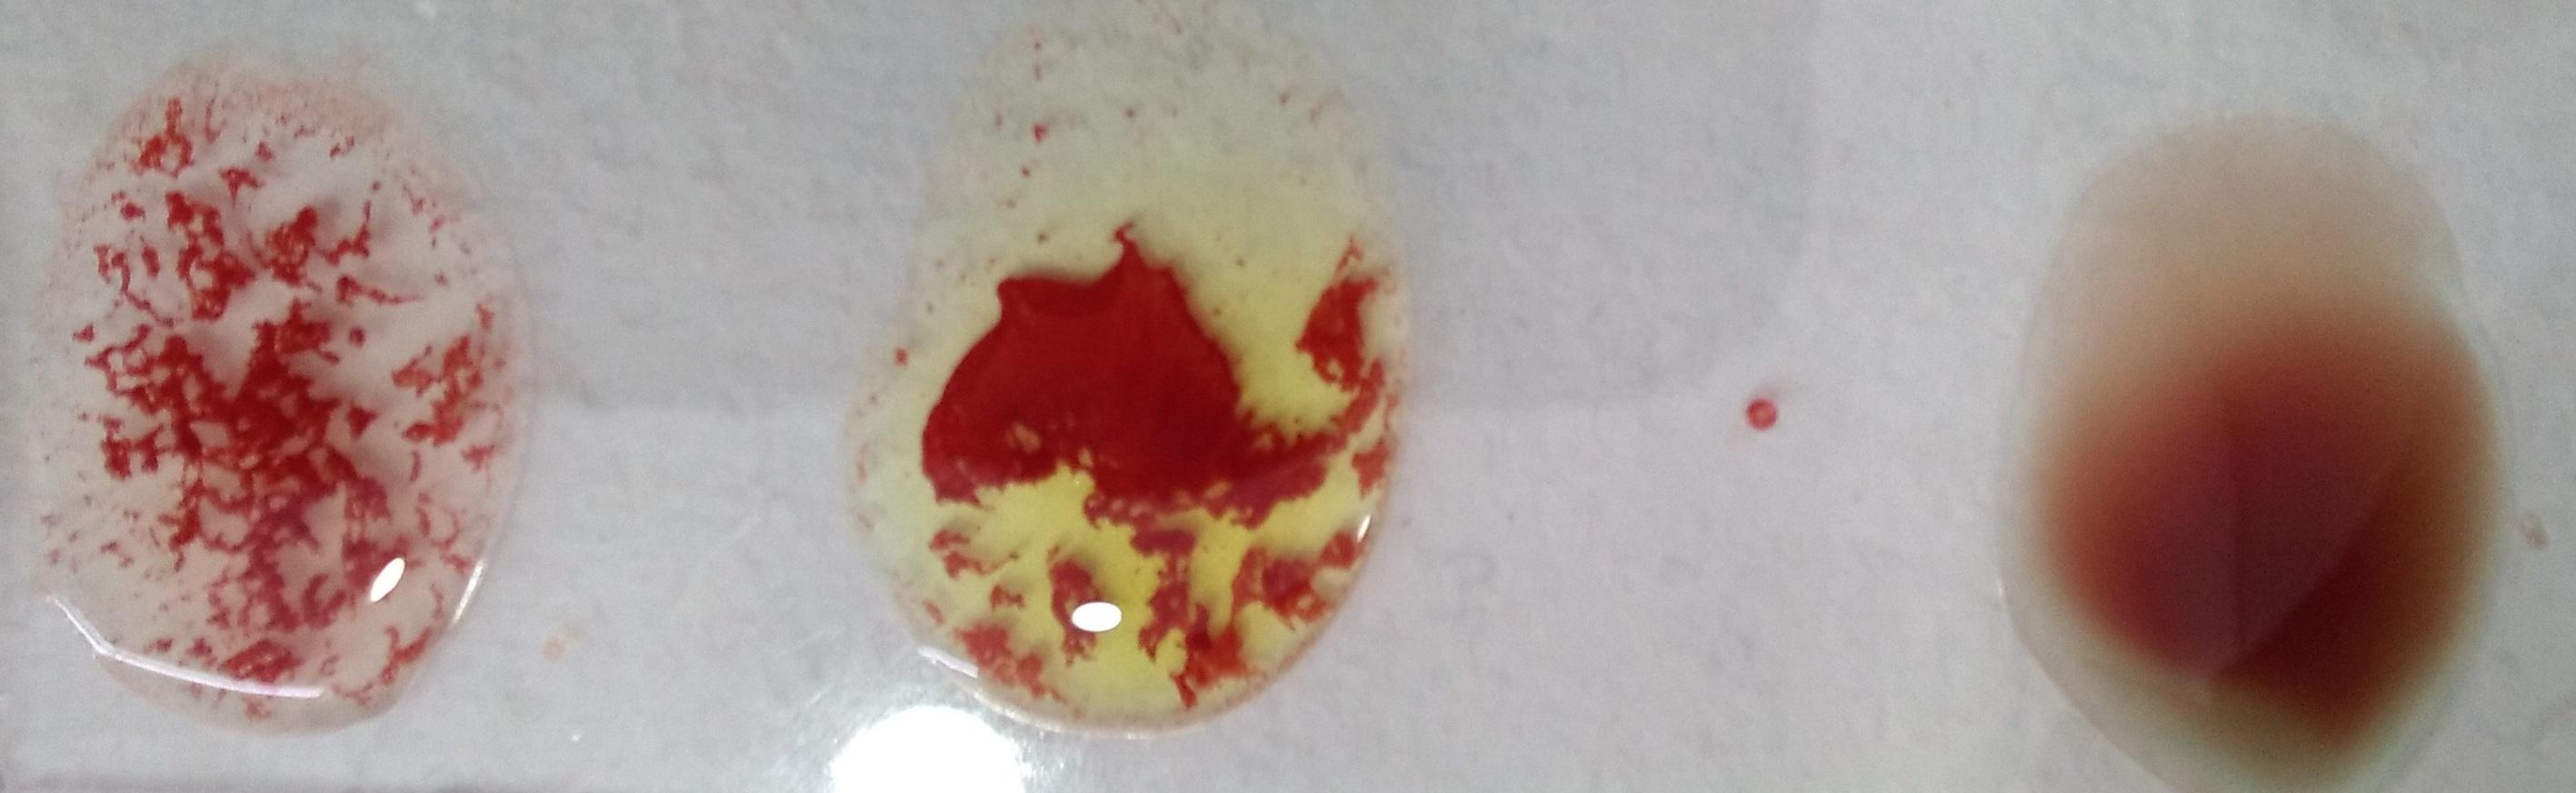B: (884, 72, 1396, 749)
D: (46, 107, 521, 745)
